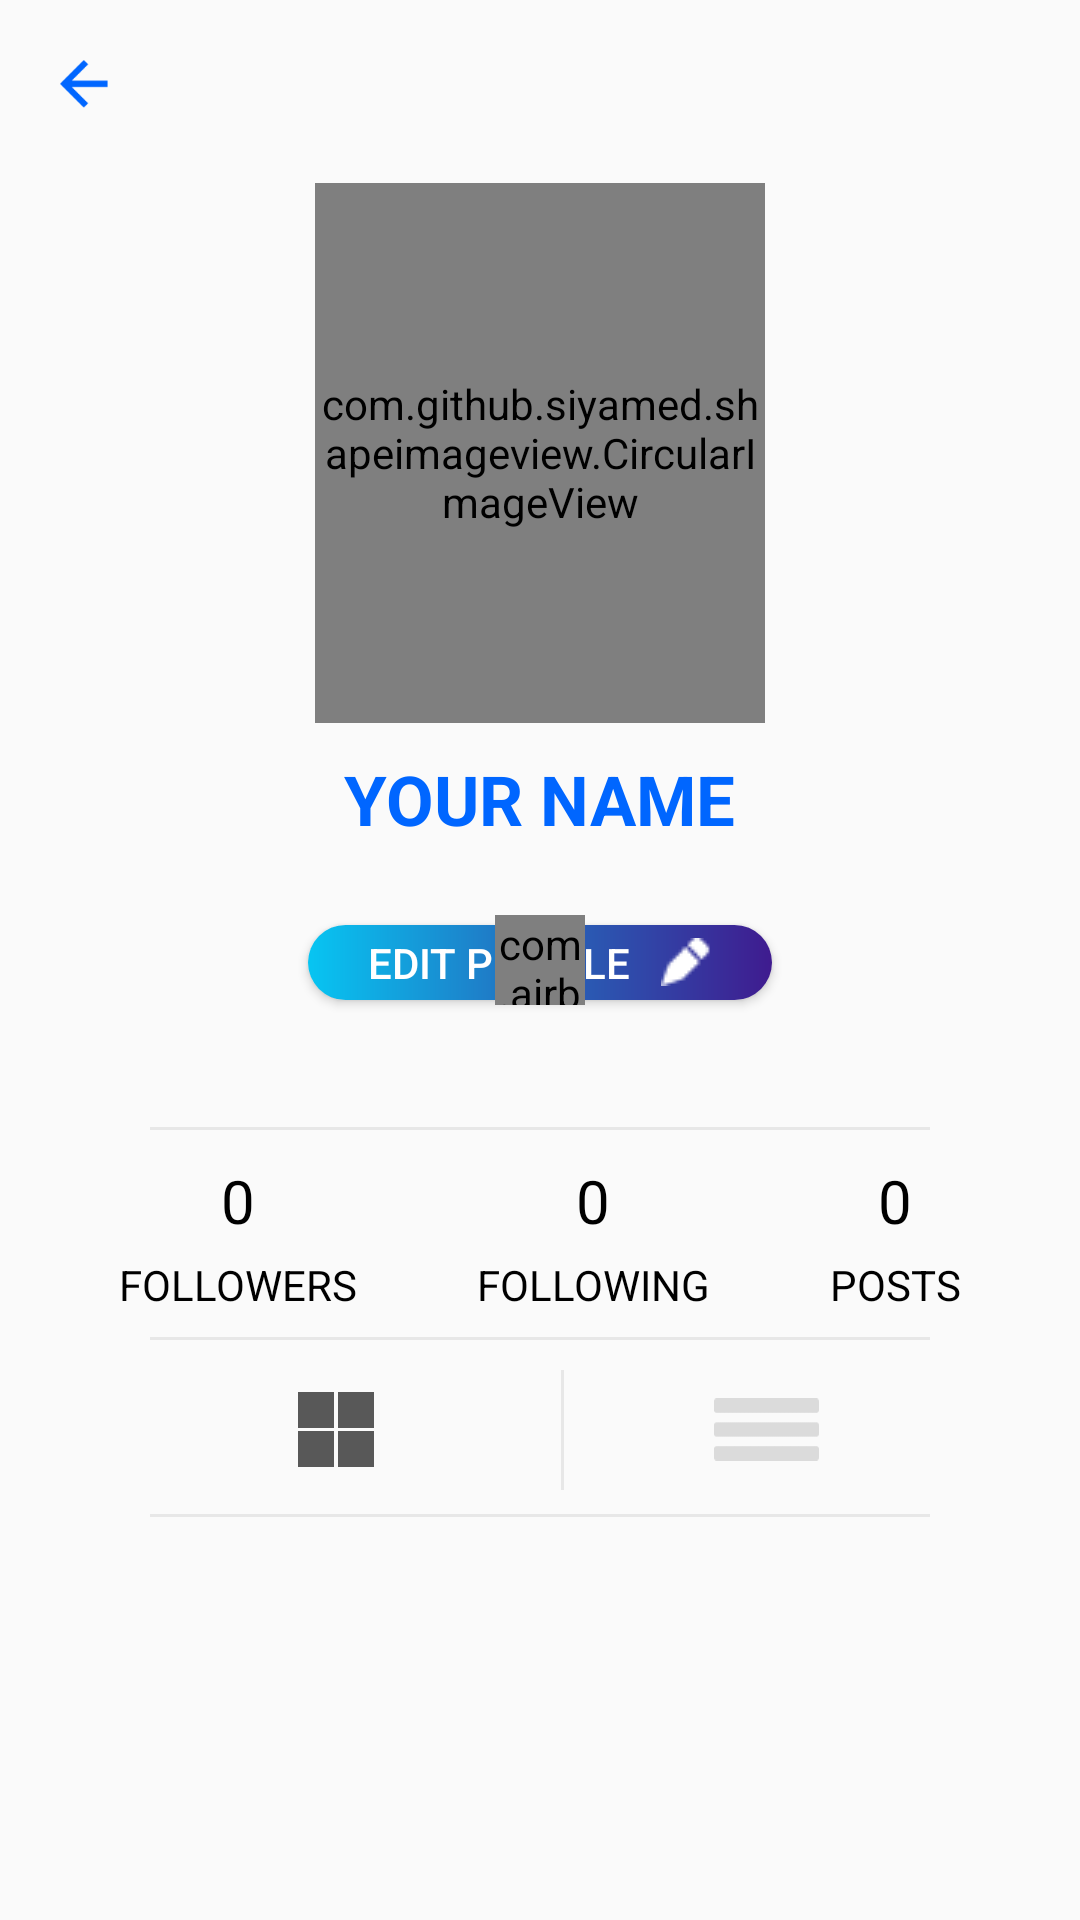

Screen size 1080×1920. Icon name, then its box in pixels as box=[x1, y1, x2, y2]:
arrow: box=[60, 60, 108, 108]
grid: box=[298, 1392, 374, 1467]
